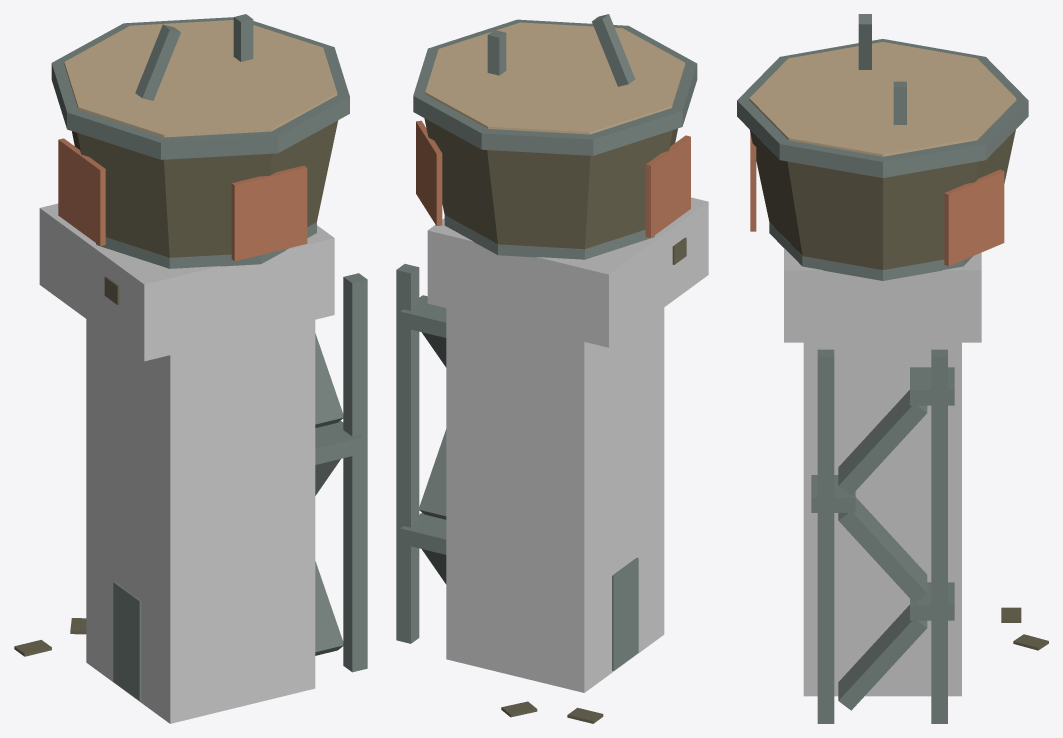
Rendered from SM_TorreControl_v1_LOD1.fbx.
3 views of the same model, side by side, from view 1: azimuth 30°, elevation 25°; view 2: azimuth 150°, elevation 25°; view 3: azimuth 270°, elevation 25° (orthographic). The views are drawn at different scales.
Parts seen in each view (by area): view 1: SM_torre_control_v1_LOD1; view 2: SM_torre_control_v1_LOD1; view 3: SM_torre_control_v1_LOD1.
Part boxes in pixels (left/top/right/bottom): SM_torre_control_v1_LOD1: left=14, top=14, right=367, bottom=723; SM_torre_control_v1_LOD1: left=396, top=14, right=708, bottom=723; SM_torre_control_v1_LOD1: left=737, top=14, right=1048, bottom=723.
Bounding box in the file's own units: 5.9 × 14.04 × 6.31.
